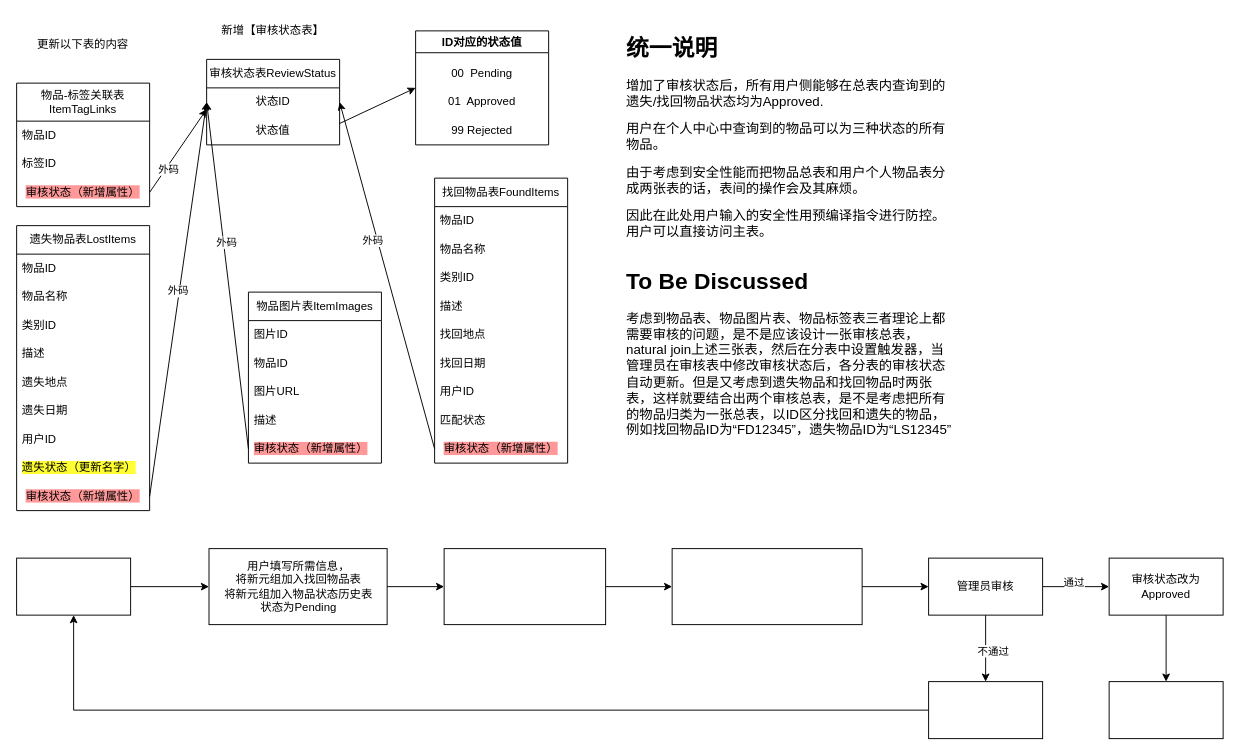
This 1240x755 diagram has some shape labels left out. Here are the shapes that lost their labels. From the top down, the centre of each, then its label:
At point 73,586: "用户发布寻物启事或找到的无主物品信息（先注册或登录）".
At point 524,586: "用户添加图片 将一些新元组加入物品图片表 状态为Pending".
At point 766,586: "用户选择标签 将一些新元组加入物品标签关联表 状态为Pending".
At point 985,710: "审核状态改为 Rejected".
At point 1165,710: "可被用户查询".
